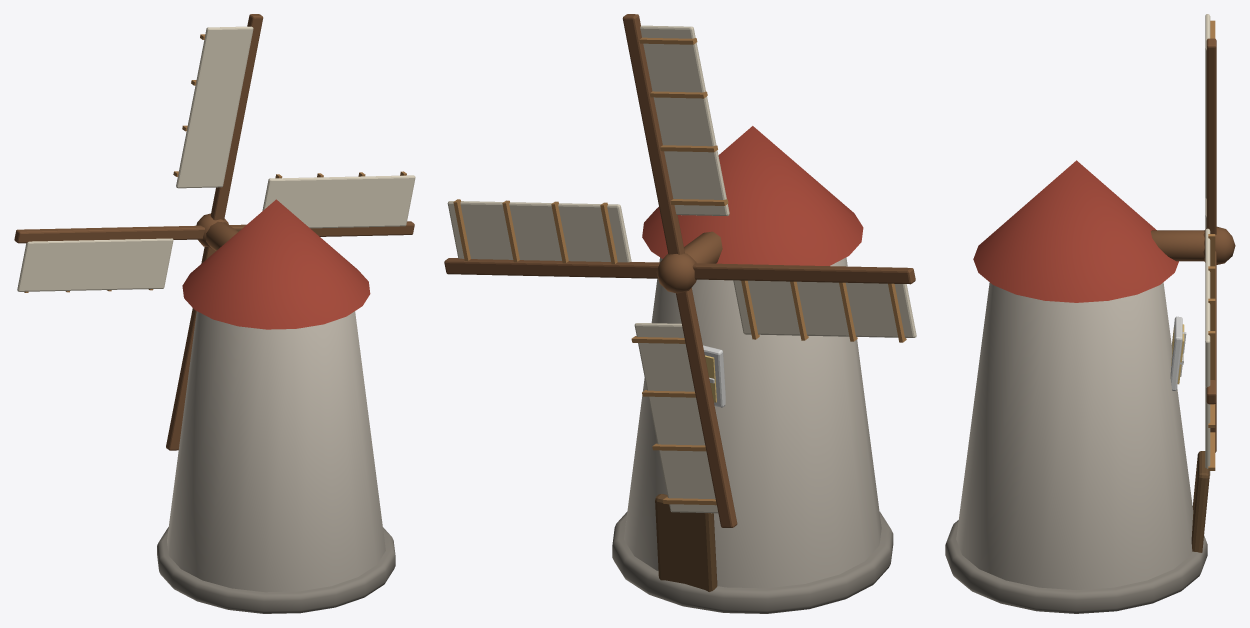
The model's file is windmill.fbx.
3 renders of one model, left to right at view 1: azimuth 30°, elevation 25°; view 2: azimuth 150°, elevation 25°; view 3: azimuth 270°, elevation 25°, orthographic. The views are drawn at different scales.
Parts seen in each view (by area): view 1: Tower, Sails; view 2: Tower, Sails; view 3: Tower, Sails.
Part boxes in pixels (box(x1,y1,x2,y2)): Tower: box(157, 199, 395, 613); Sails: box(14, 14, 415, 450); Tower: box(612, 126, 893, 613); Sails: box(444, 14, 916, 527); Tower: box(945, 160, 1209, 613); Sails: box(1203, 14, 1235, 475).
Size of the model in its own units: 2.53 by 3.01 by 1.46.
